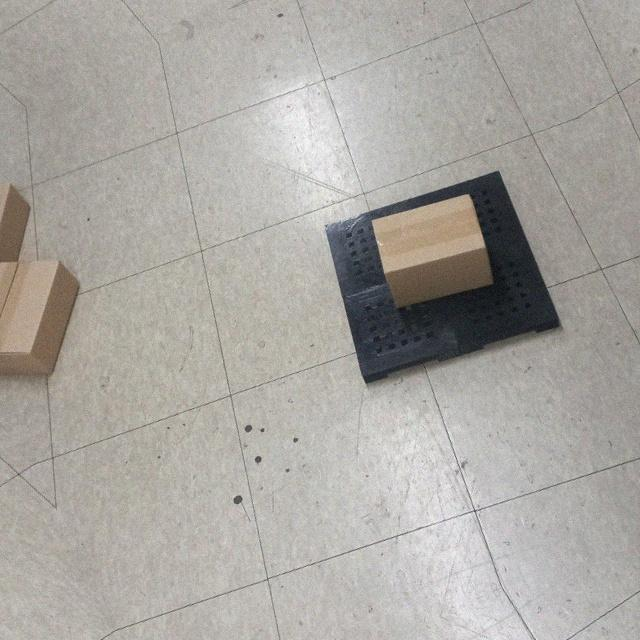box: (364, 188, 501, 312), (0, 253, 83, 379)
pallet: (316, 162, 570, 388)
